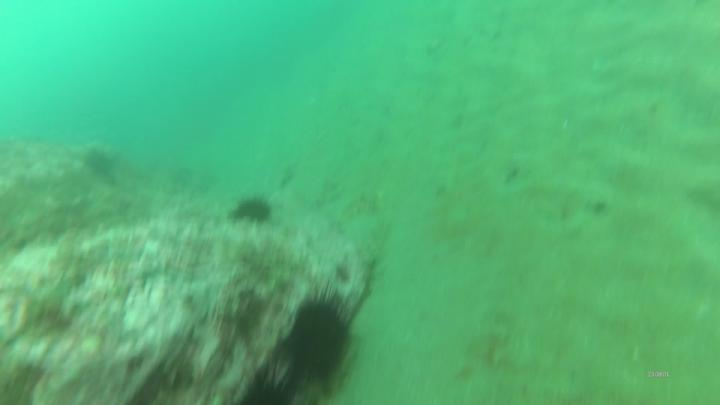echinus: (287, 299, 352, 389), (232, 196, 274, 228)
